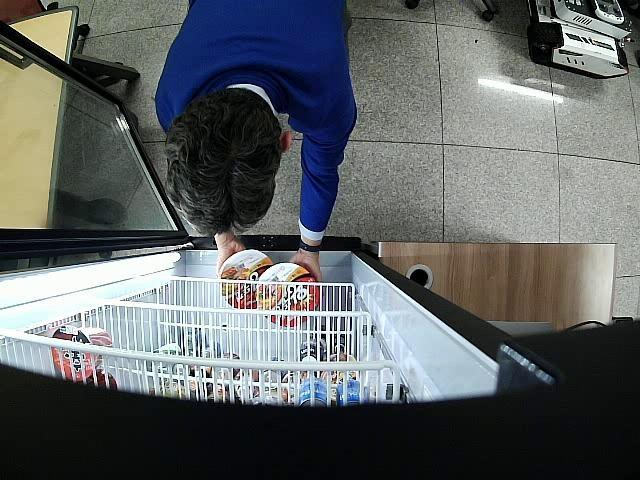10_wangTtukkeong: (258, 263, 321, 328), (218, 250, 274, 308)
